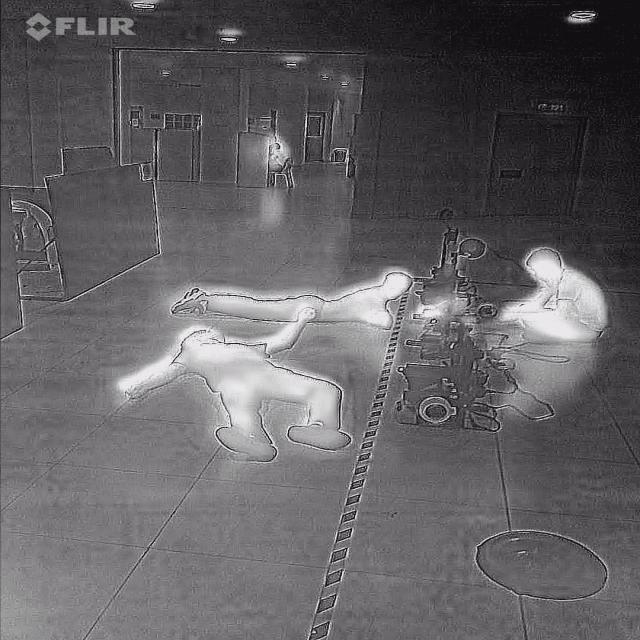Victim: (120, 265, 430, 465), (484, 241, 626, 350)
